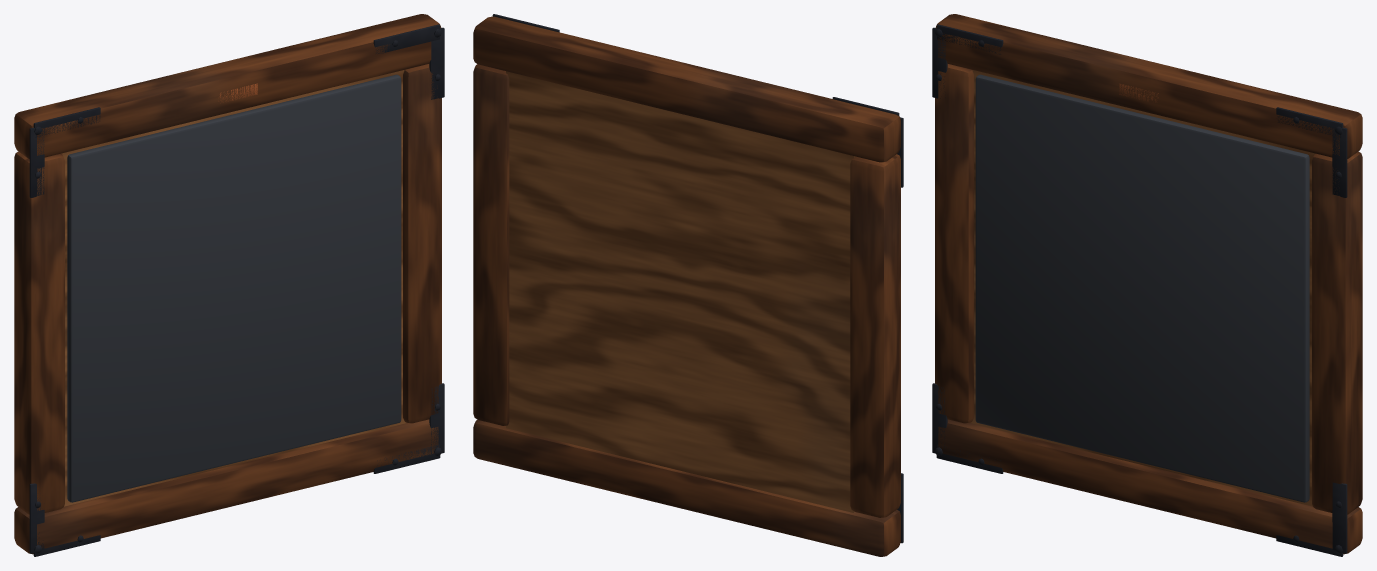
Rendered from sign.glb.
3 renders of one model, left to right at view 1: azimuth 30°, elevation 25°; view 2: azimuth 150°, elevation 25°; view 3: azimuth 330°, elevation 25°, orthographic.
Visible parts, largest first — view 1: Sign_LetterField, Sign_Body; view 2: Sign_Body; view 3: Sign_LetterField, Sign_Body.
Part boxes in pixels (left/top/right/bottom): Sign_LetterField: left=67, top=74, right=401, bottom=502; Sign_Body: left=14, top=14, right=444, bottom=556; Sign_Body: left=473, top=14, right=903, bottom=556; Sign_LetterField: left=975, top=74, right=1309, bottom=502; Sign_Body: left=932, top=14, right=1362, bottom=556.
Bounding box in the file's own units: 1 × 1 × 0.085.
Materials: 5 (4 with a texture image).
